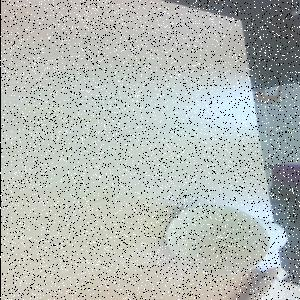Cup: (166, 206, 288, 277)
